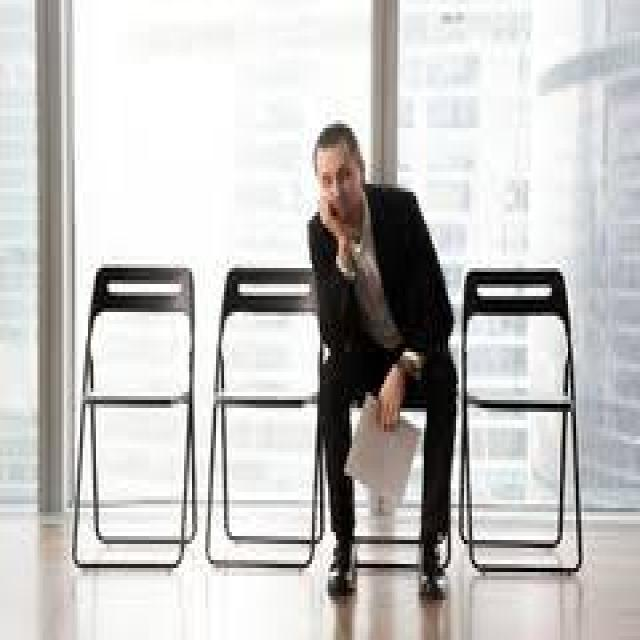nonfall: (296, 137, 480, 589)
